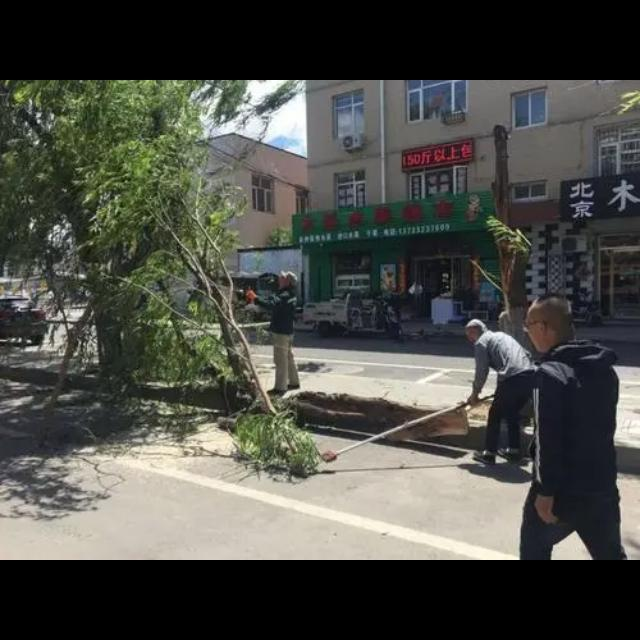fallen_tree: (113, 160, 317, 476), (260, 380, 472, 448)
